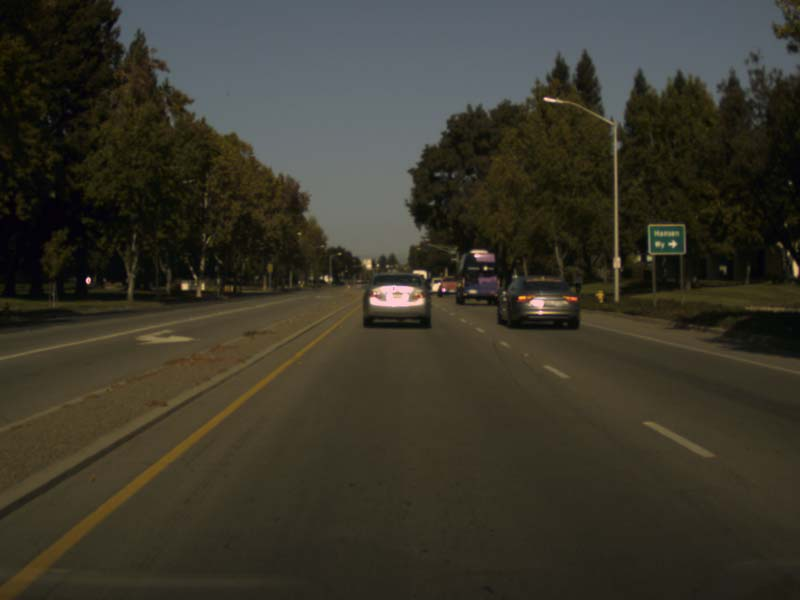Red: (344, 269, 348, 278)
